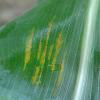Corn leaf blight: (6, 2, 89, 99)
